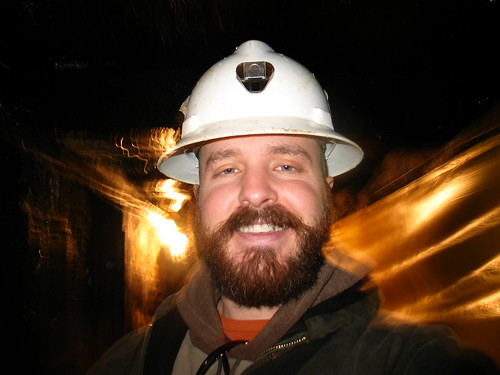person hardhat: (97, 42, 447, 374)
